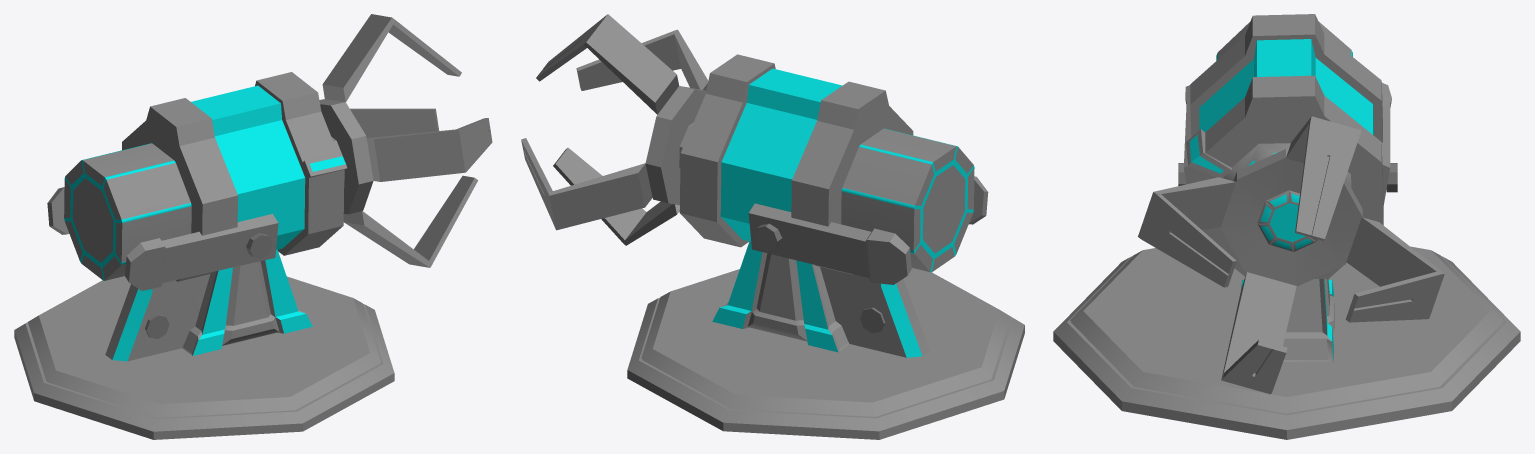
File: bhb_max_speed.fbx
The picture shows the model from 3 angles, left to right: view 1: azimuth 30°, elevation 25°; view 2: azimuth 150°, elevation 25°; view 3: azimuth 270°, elevation 25°; orthographic projection. The views are drawn at different scales.
Visible parts, largest first — view 1: pCylinder9, pCylinder3, pCube23, pCube14, pCylinder4, pCylinder8; view 2: pCylinder9, pCylinder3, pCube23, pCube14, pCylinder5, pCylinder7; view 3: pCylinder3, pCube23, pCylinder9, pCube14.
Boxes of the visible parts, x1,y1,x2,y2 form: pCylinder9: [64, 72, 347, 361]; pCylinder3: [14, 276, 394, 439]; pCube23: [319, 14, 492, 267]; pCube14: [47, 187, 69, 234]; pCylinder4: [246, 233, 272, 258]; pCylinder8: [145, 314, 169, 339]; pCylinder9: [679, 54, 988, 357]; pCylinder3: [627, 268, 1024, 439]; pCube23: [521, 14, 708, 245]; pCube14: [748, 203, 911, 284]; pCylinder5: [754, 223, 782, 251]; pCylinder7: [860, 307, 885, 333]; pCylinder3: [1053, 246, 1520, 439]; pCube23: [1138, 116, 1444, 394]; pCylinder9: [1183, 14, 1383, 362]; pCube14: [1381, 83, 1391, 204].
Size of the model in its own units: 413 by 262 by 326.
